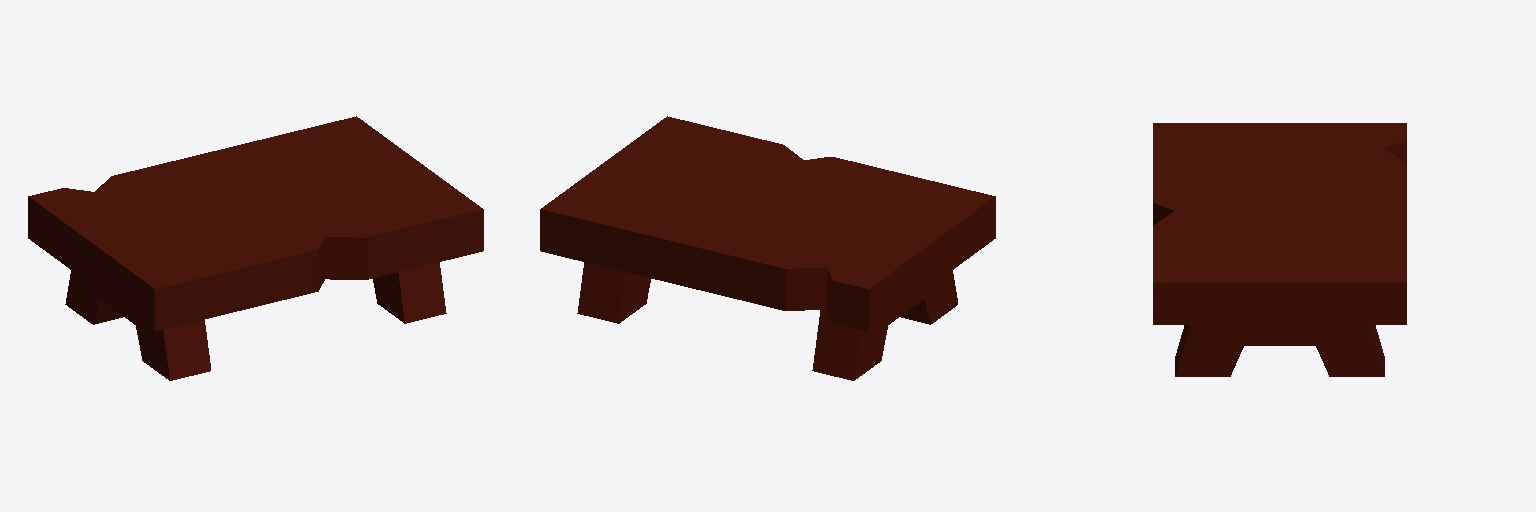
Rendered from table.obj.
3 views of the same model, side by side, from view 1: azimuth 30°, elevation 25°; view 2: azimuth 150°, elevation 25°; view 3: azimuth 270°, elevation 25° (orthographic).
Visible parts, largest first — view 1: table_Cube.10788; view 2: table_Cube.10788; view 3: table_Cube.10788.
Part boxes in pixels (left/top/right/bottom): table_Cube.10788: left=28, top=116, right=483, bottom=380; table_Cube.10788: left=540, top=116, right=995, bottom=380; table_Cube.10788: left=1153, top=123, right=1406, bottom=376.
Size of the model in its own units: 1.12 by 0.3475 by 0.7504.